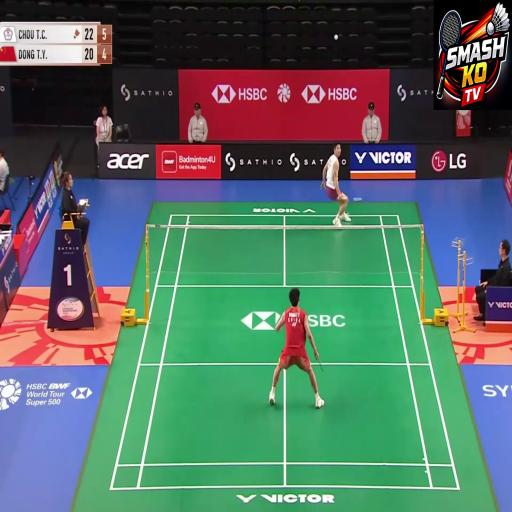player: (255, 272, 320, 444), (313, 124, 358, 256)
